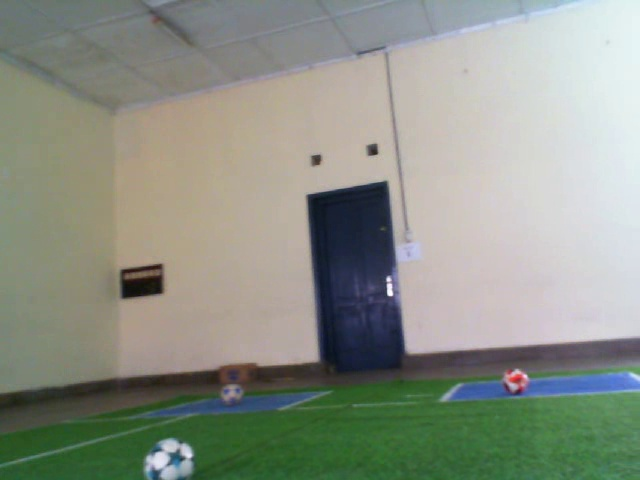ball: (140, 435, 198, 480), (499, 366, 531, 398), (218, 381, 245, 407)
